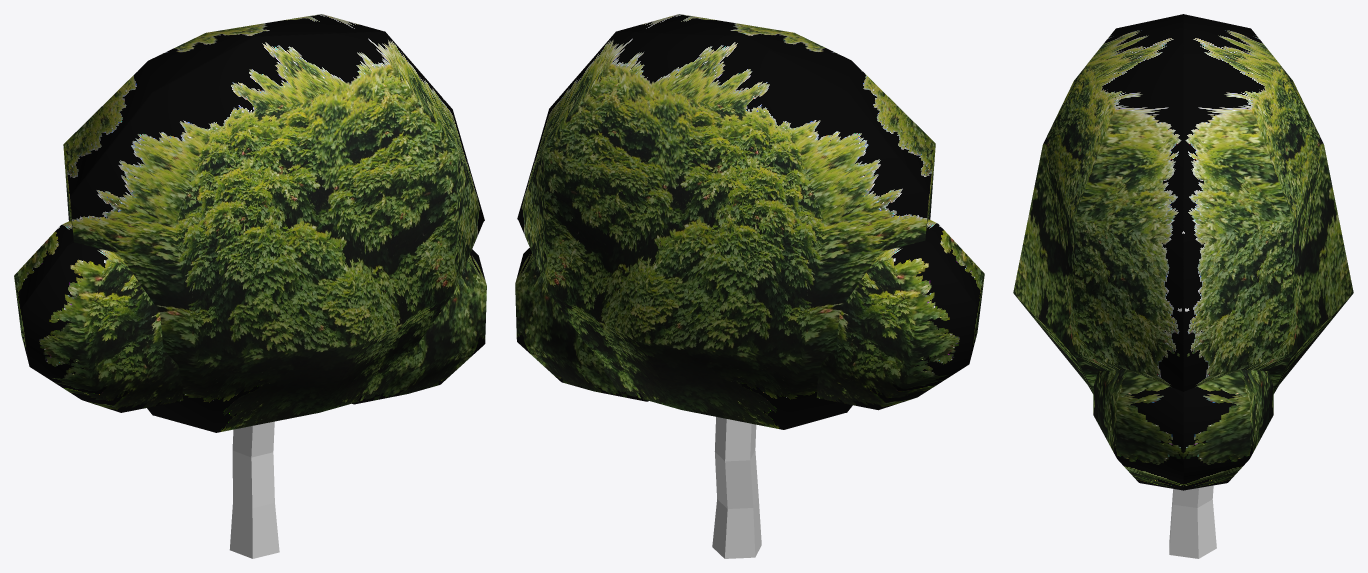
Rendered from FlatTree.glb.
3 views of the same model, side by side, from view 1: azimuth 30°, elevation 25°; view 2: azimuth 150°, elevation 25°; view 3: azimuth 270°, elevation 25° (orthographic).
Visible parts, largest first — view 1: Sphere.002; view 2: Sphere.002; view 3: Sphere.002.
Part boxes in pixels (x1=…): Sphere.002: x1=14, y1=14, x2=486, y2=558; Sphere.002: x1=515, y1=14, x2=984, y2=558; Sphere.002: x1=1013, y1=14, x2=1353, y2=558.
Bounding box in the file's own units: 5.06 × 5.39 × 3.24.
Materials: 2 (1 with a texture image).
